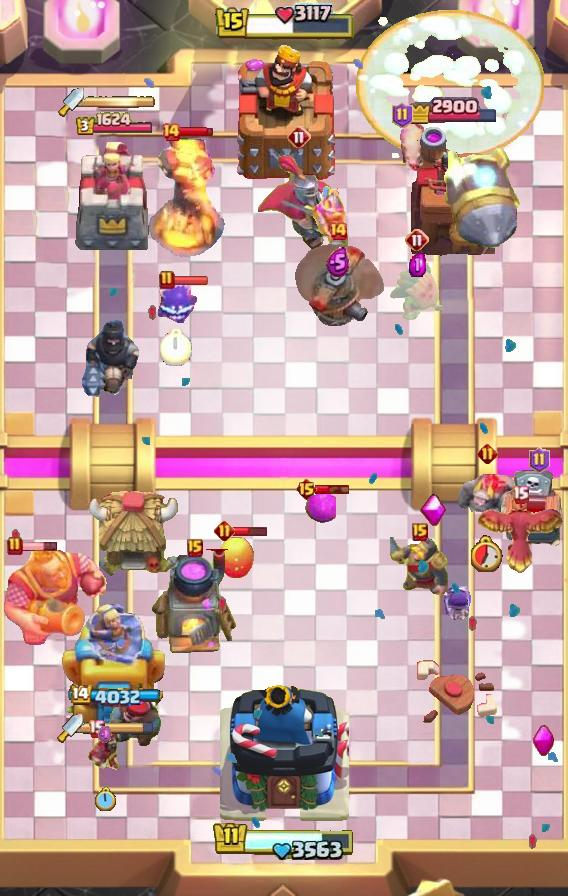bar: (59, 595, 169, 731), (73, 140, 155, 256)
bomb-tower: (310, 185, 348, 257)
bowler: (87, 725, 123, 773)
clock: (212, 821, 356, 863), (214, 3, 354, 43)
dark-prince: (290, 244, 386, 326)
electro-dragon: (147, 132, 225, 260)
electro-spirit: (326, 247, 350, 277), (409, 253, 426, 277), (99, 724, 114, 743)
elixir: (160, 329, 192, 367), (471, 536, 503, 573), (94, 787, 116, 813)
elixir-golem-mid: (498, 469, 568, 555)
emote: (22, 540, 59, 552), (178, 126, 214, 138), (173, 274, 209, 286), (315, 483, 351, 495), (233, 525, 268, 537)
firecracker: (390, 537, 450, 597)
giant: (397, 118, 431, 174)
giant-skeleton: (1, 546, 112, 648)
goblin: (441, 586, 471, 626)
goblin-barrel: (388, 255, 446, 325)
golden-knight: (474, 500, 566, 574)
hog: (216, 536, 256, 580)
hunter: (150, 549, 240, 657)
inferno-dragon: (79, 310, 141, 398)
king-tower: (219, 678, 349, 826), (230, 43, 338, 181)
king-tower-bar: (84, 95, 156, 109), (83, 721, 155, 735)
miner: (304, 493, 336, 523)
phoenix-big: (356, 10, 544, 158)
phoenix-small: (100, 694, 164, 748)
prince: (88, 489, 182, 579)
queen-tower: (411, 122, 495, 256)
selected: (407, 96, 499, 125), (68, 685, 160, 708), (74, 112, 154, 137)
skeleton-king-skill: (420, 494, 448, 528), (531, 724, 555, 758)
spear-goblin: (152, 277, 200, 323)
text: (287, 125, 311, 149), (405, 228, 429, 252), (294, 477, 317, 501), (392, 102, 413, 128), (529, 447, 550, 473), (477, 443, 499, 464), (213, 519, 234, 541), (161, 122, 181, 142), (328, 221, 348, 241), (511, 484, 529, 503), (87, 719, 105, 737), (159, 270, 175, 290), (7, 536, 23, 556), (412, 523, 428, 541), (187, 539, 203, 557)
valkyrie-evolution: (453, 468, 521, 528)
wall-breaker-evolution: (253, 152, 345, 252)
x-bow: (443, 146, 522, 250)
